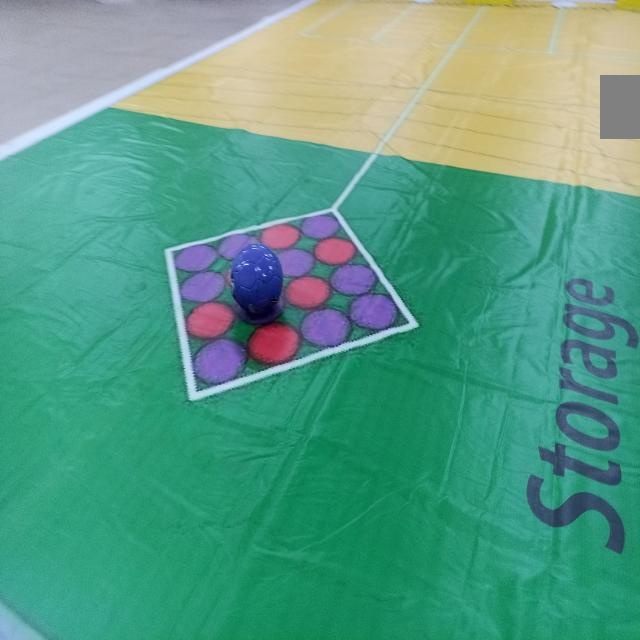purple_ball: (230, 244, 282, 321)
